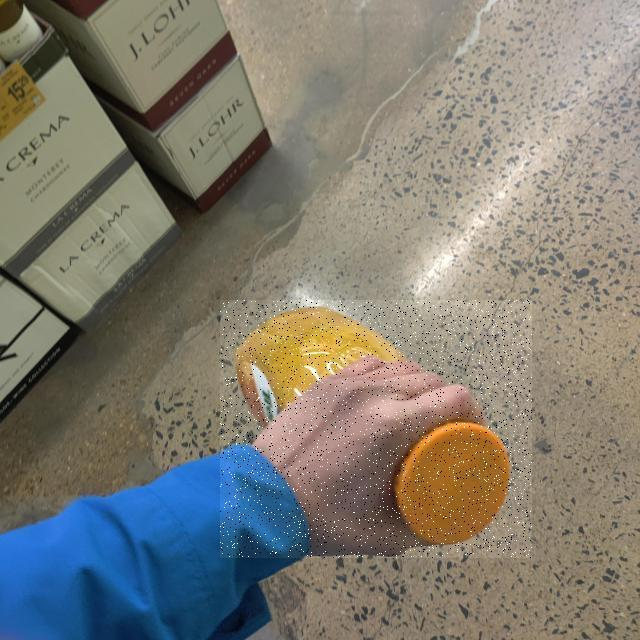Juice: (220, 300, 532, 558)
